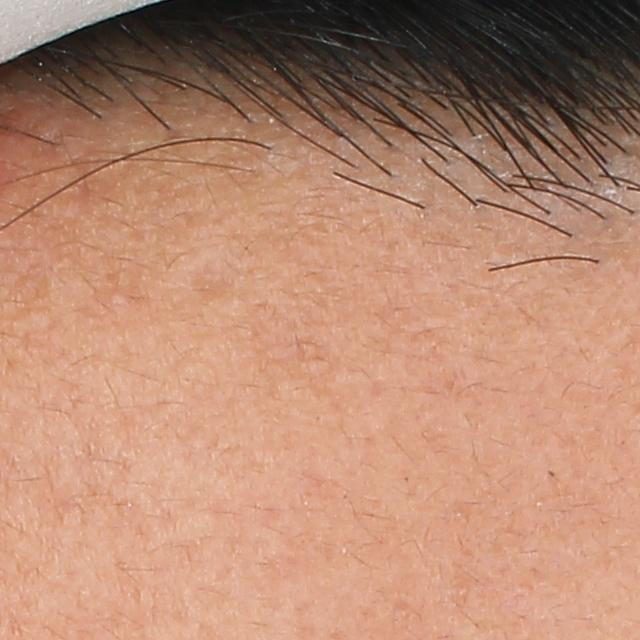atrophic_scar: (186, 252, 236, 303)
comedo: (106, 288, 129, 307)
